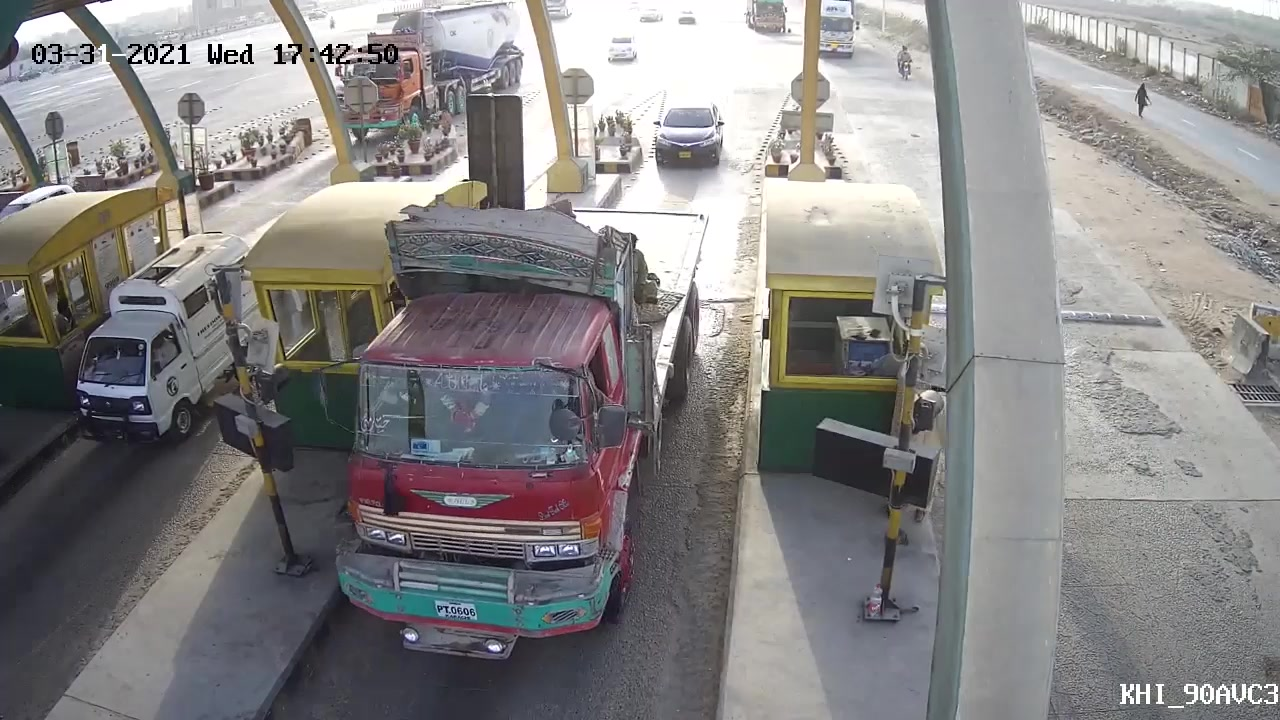F5: (328, 171, 714, 662)
